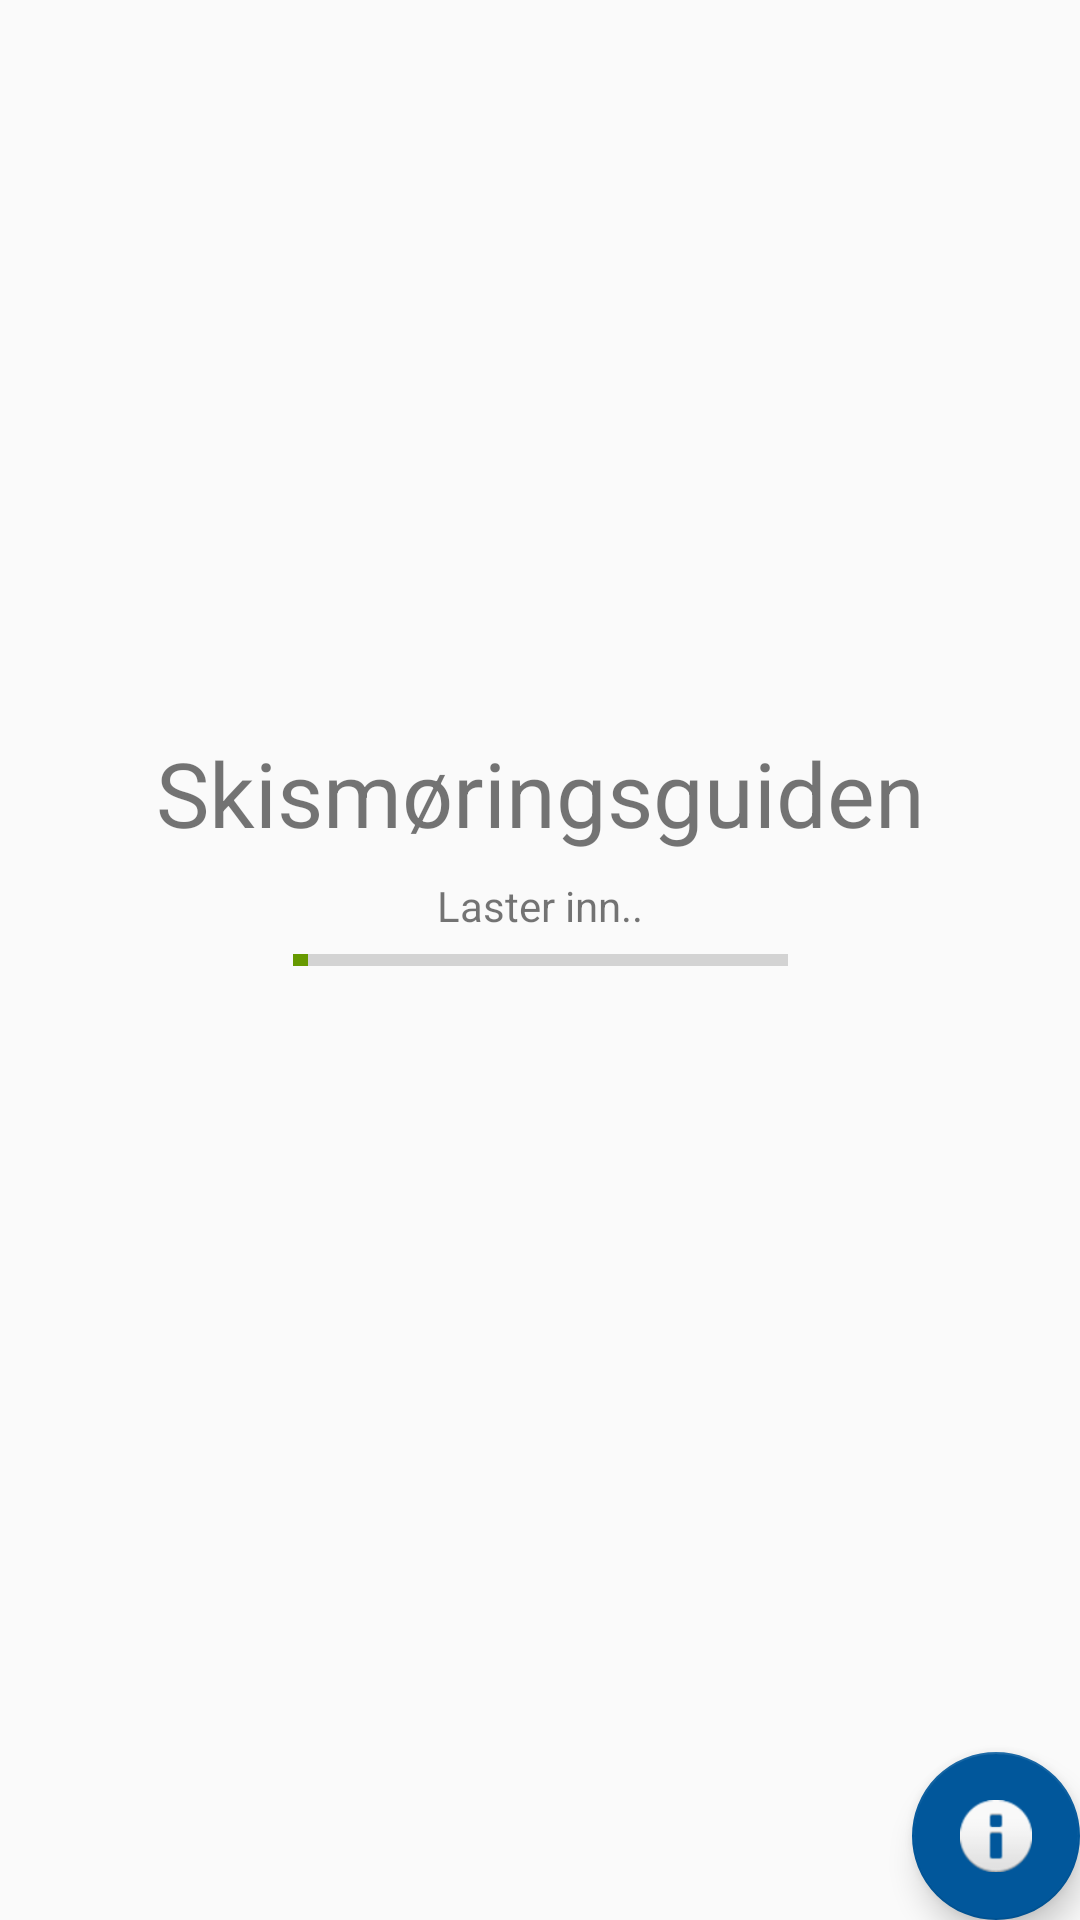

Icons on this 1080 × 1920 Android screen, each with the point to tap as (x,y):
info: (996,1836)
